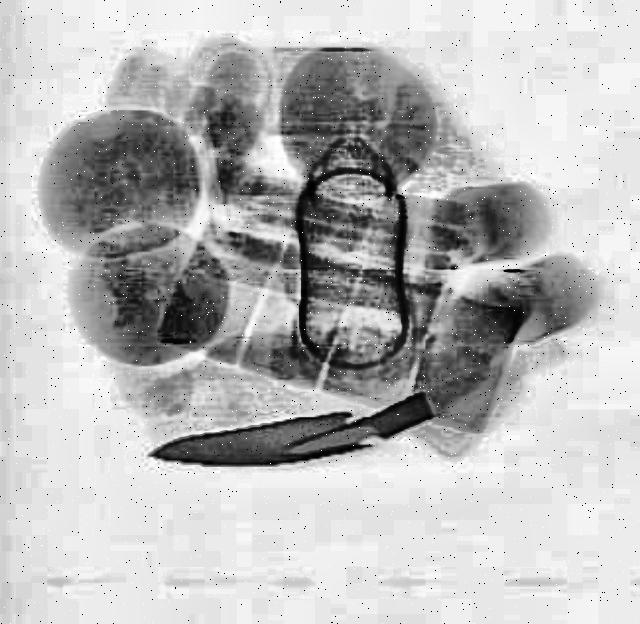Knife: (143, 406, 369, 479), (282, 384, 436, 476)
